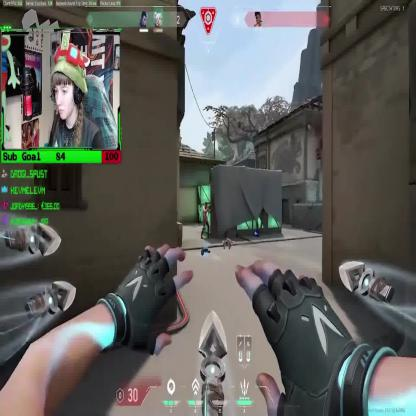enemy: (200, 201, 210, 239)
enemy_head: (204, 202, 207, 209)
